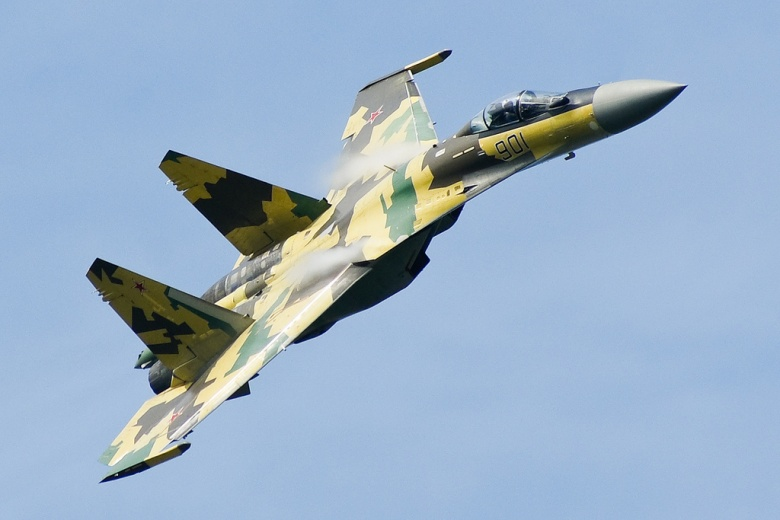Su35: (79, 41, 695, 493)
